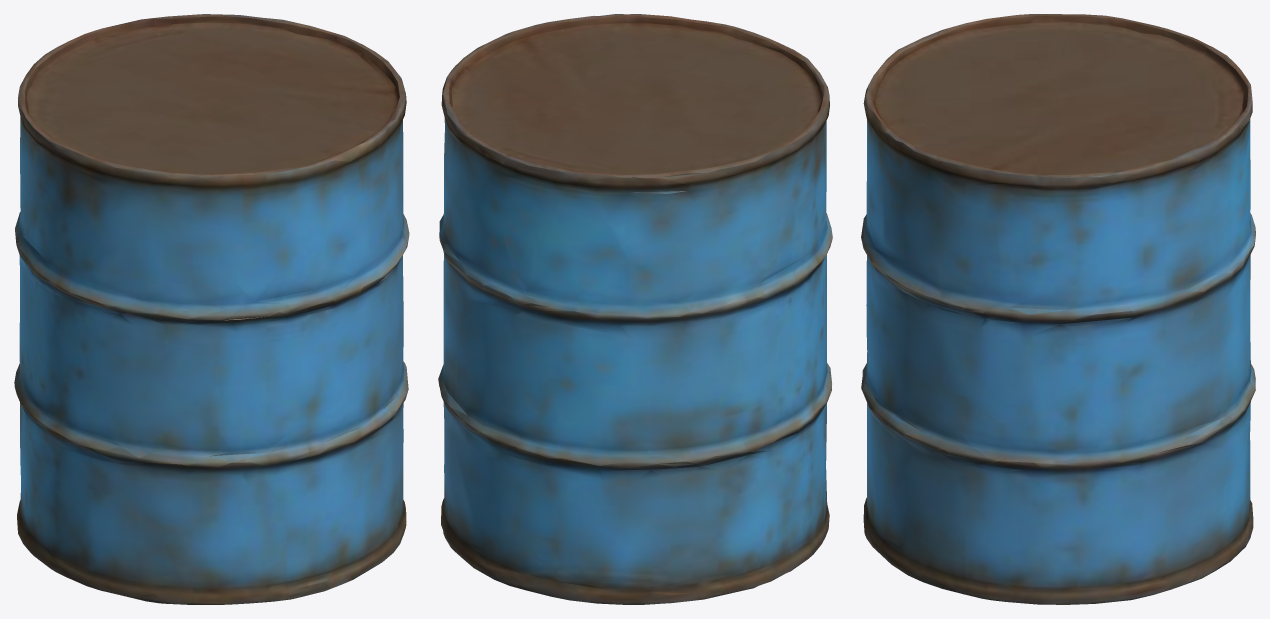
File: street_blue_barrel.glb
The picture shows the model from 3 angles, left to right: view 1: azimuth 30°, elevation 25°; view 2: azimuth 150°, elevation 25°; view 3: azimuth 270°, elevation 25°; orthographic projection.
Visible parts, largest first — view 1: file1; view 2: file1; view 3: file1.
Part boxes in pixels (x1,y1,x2,y2): file1: (14, 14, 409, 604); file1: (438, 14, 832, 604); file1: (861, 14, 1255, 604).
Size of the model in its own units: 0.7463 by 0.9 by 0.747.
Materials: 1 (1 with a texture image).
